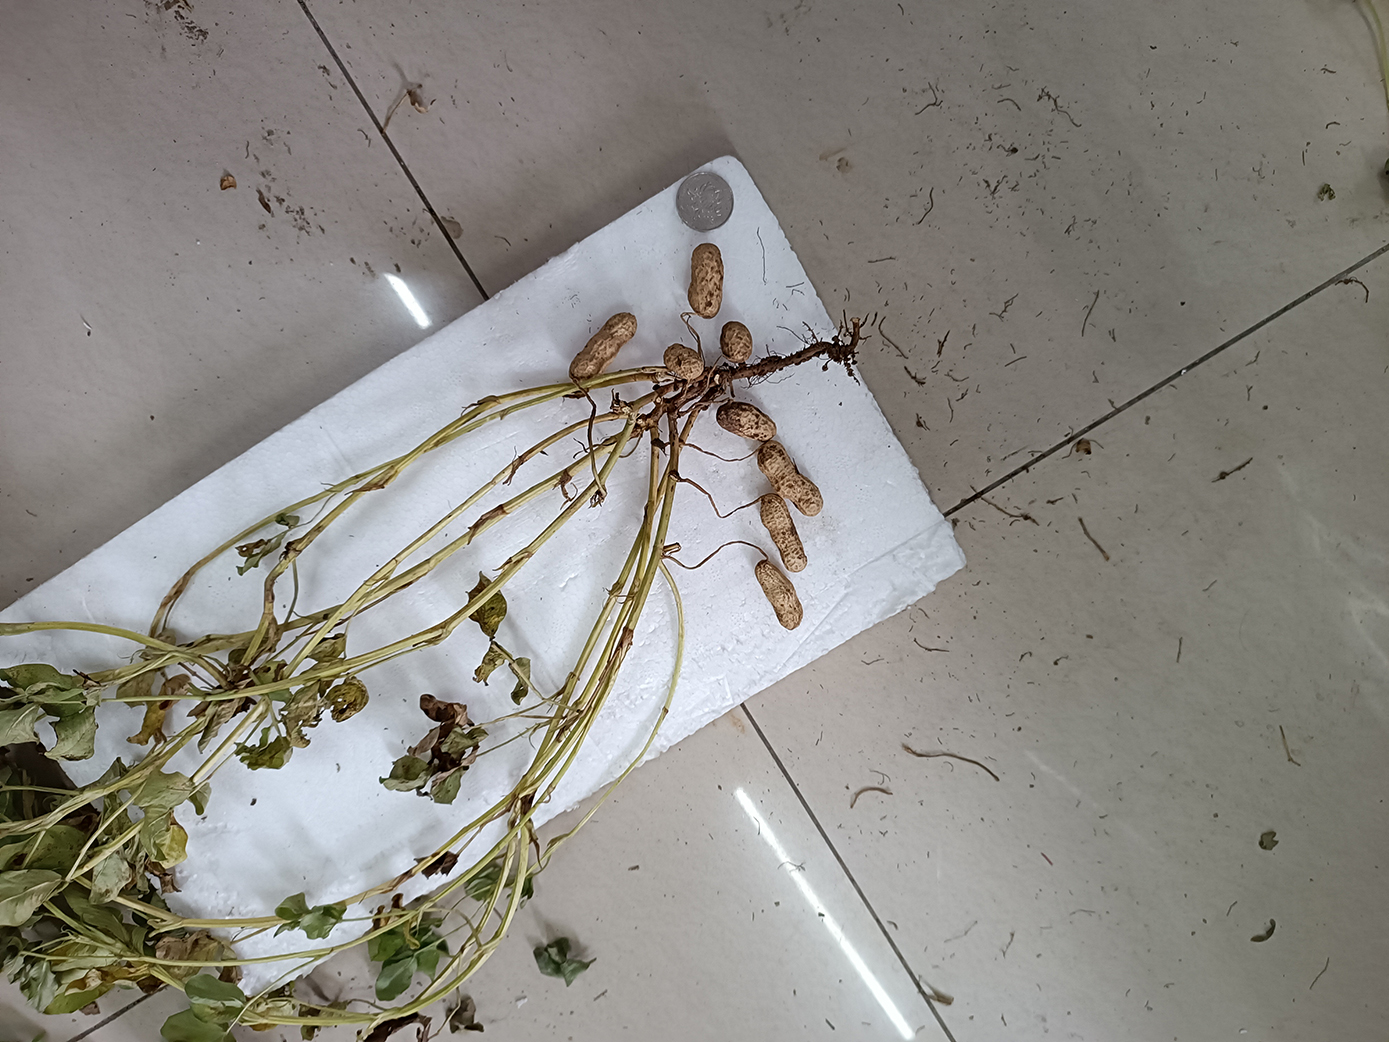h: (756, 441, 822, 516), (570, 313, 637, 380), (760, 493, 808, 572), (754, 561, 805, 629), (715, 400, 777, 443), (688, 244, 724, 319), (665, 344, 704, 379), (720, 322, 752, 363)
